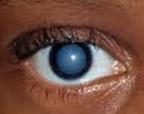eye: (48, 42, 94, 81)
